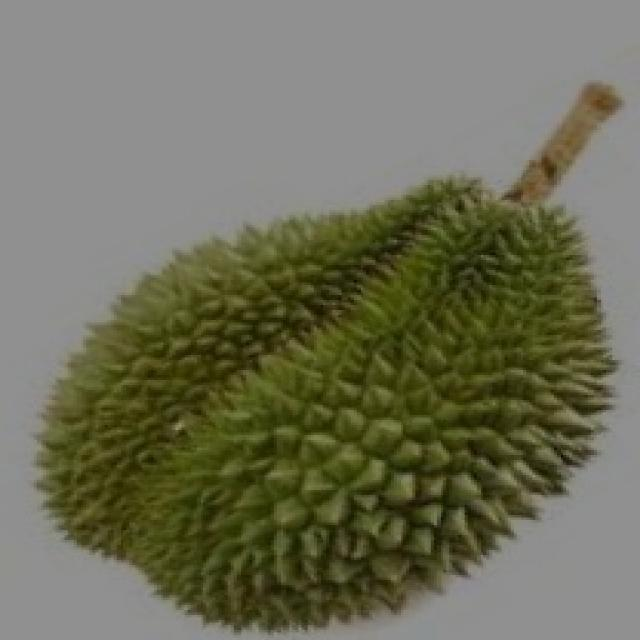fruit: (274, 195, 640, 637), (0, 215, 382, 637)
